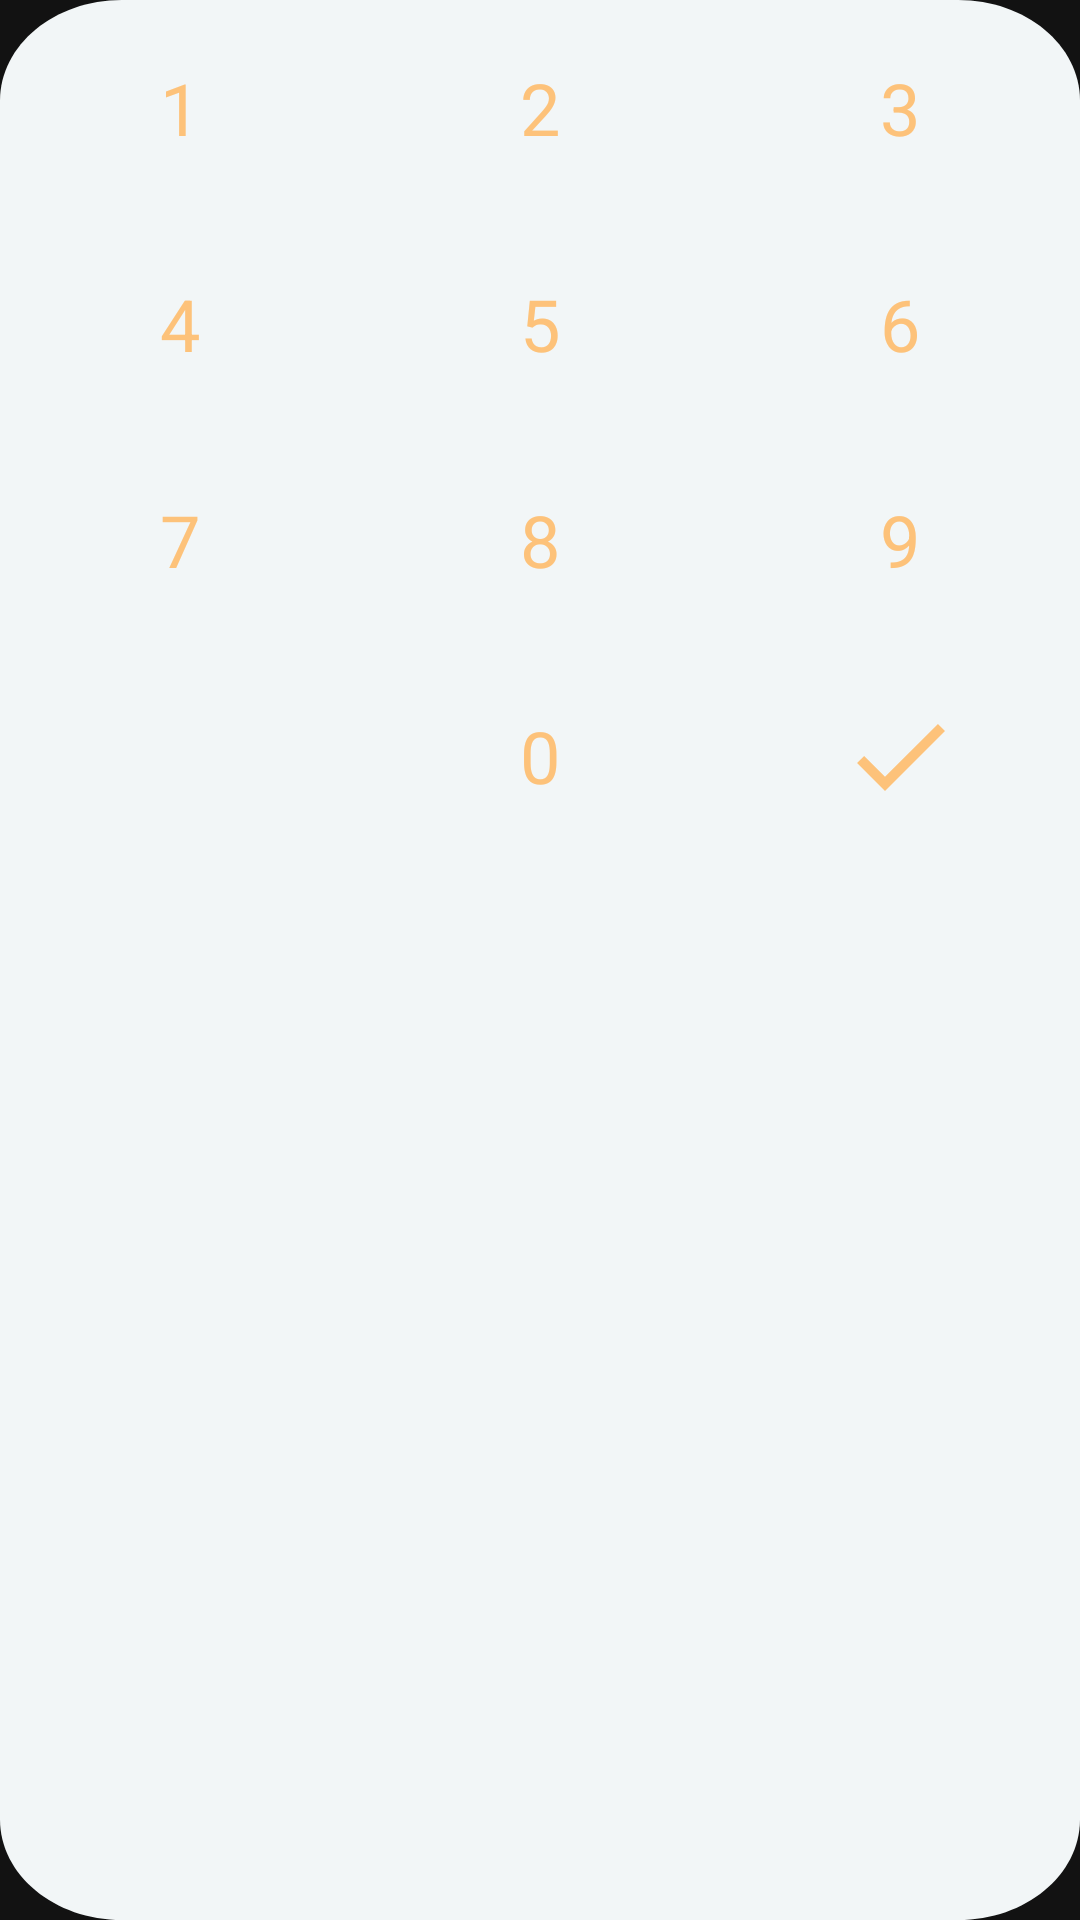

Named icons in this screenshot (1080×1920) and their bounding boxes, bbox(x1, y1, x2, y2):
check: bbox(857, 724, 945, 791)
